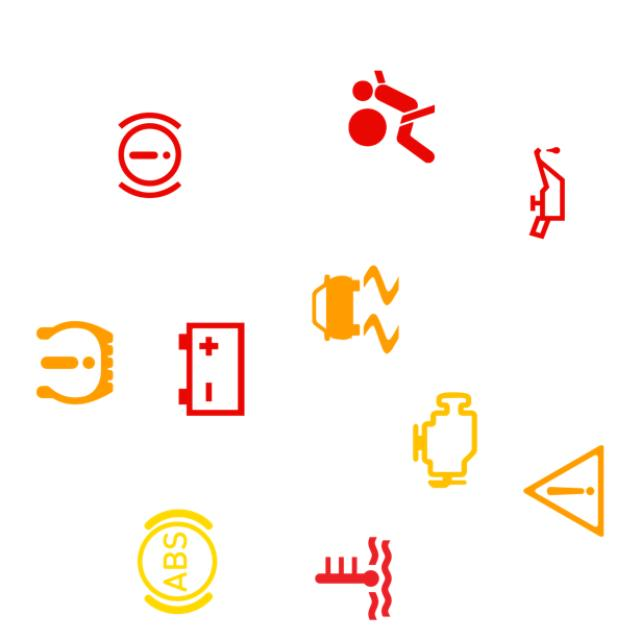Anti Lock Braking System: (120, 505, 234, 619)
Braking System Issue: (93, 98, 207, 213)
Charging System Issue: (154, 312, 269, 426)
Check Engine: (388, 383, 502, 497)
Electronic Stability Problem -ESP-: (298, 252, 413, 367)
Engine Overheating Warning Light: (296, 521, 411, 636)
Low Engine Oil Warning Light: (490, 136, 604, 250)
Low Tire Pressure Warning Light: (18, 305, 132, 420)
Master warning light: (507, 434, 621, 548)
SRS-Airbag: (335, 59, 449, 174)
